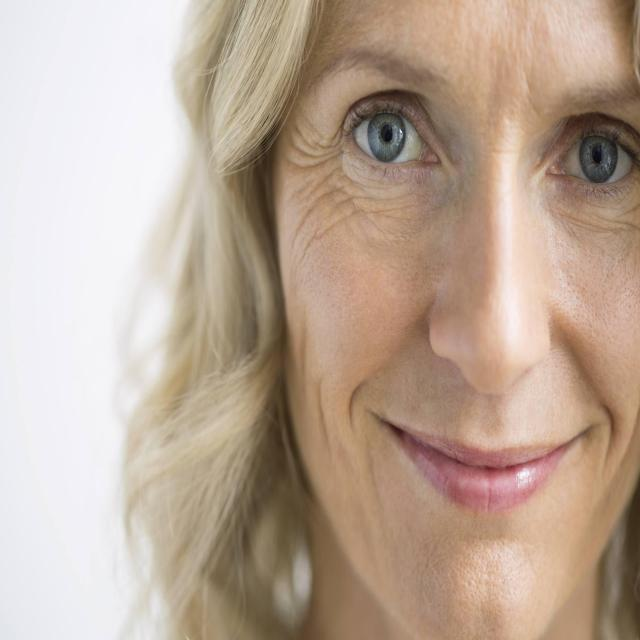Wrinkles: (285, 106, 357, 260), (295, 192, 426, 276), (318, 373, 332, 470), (302, 309, 309, 410)
